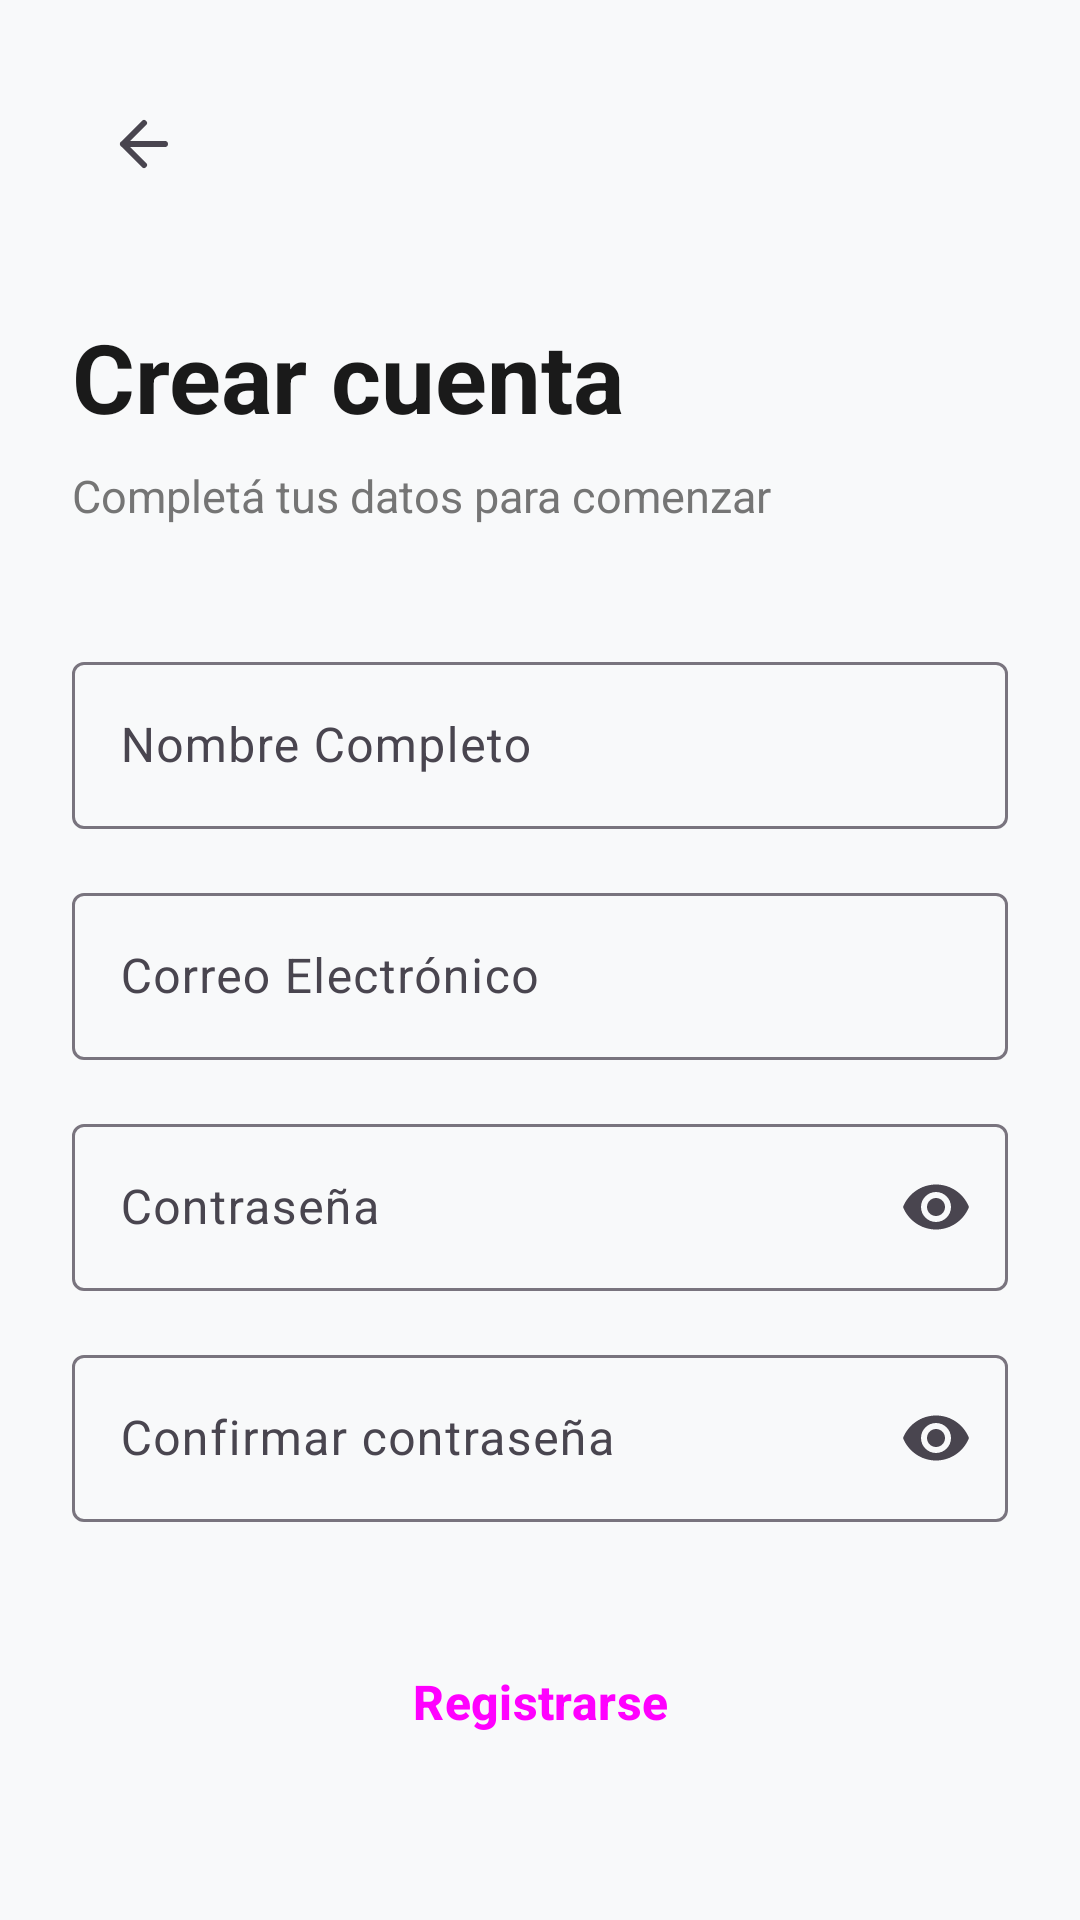

Locate icon controls on the screen. Image size 1080×1920, boxes as [x1, y1, x2, y2].
Volver: [120, 120, 168, 168]
